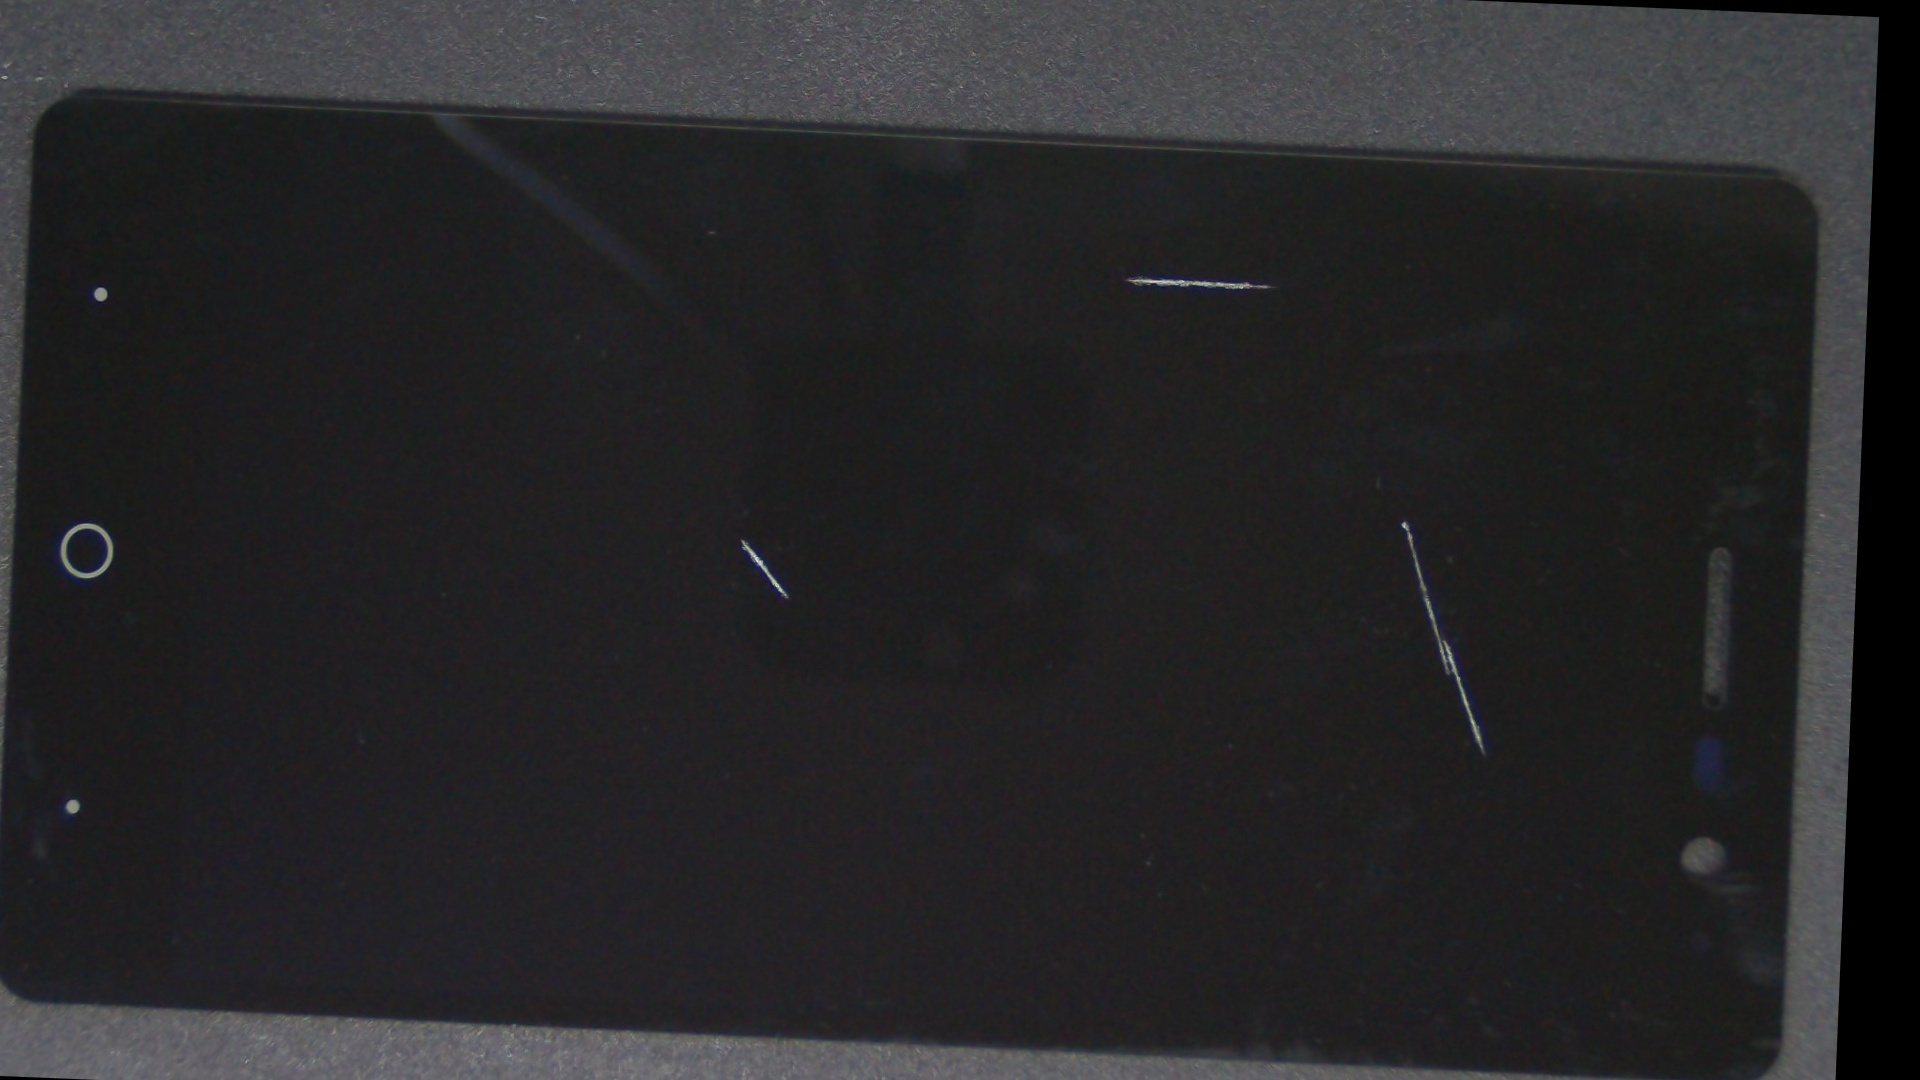oil: (667, 228, 1869, 799), (334, 239, 1149, 839), (546, 105, 1741, 442)
